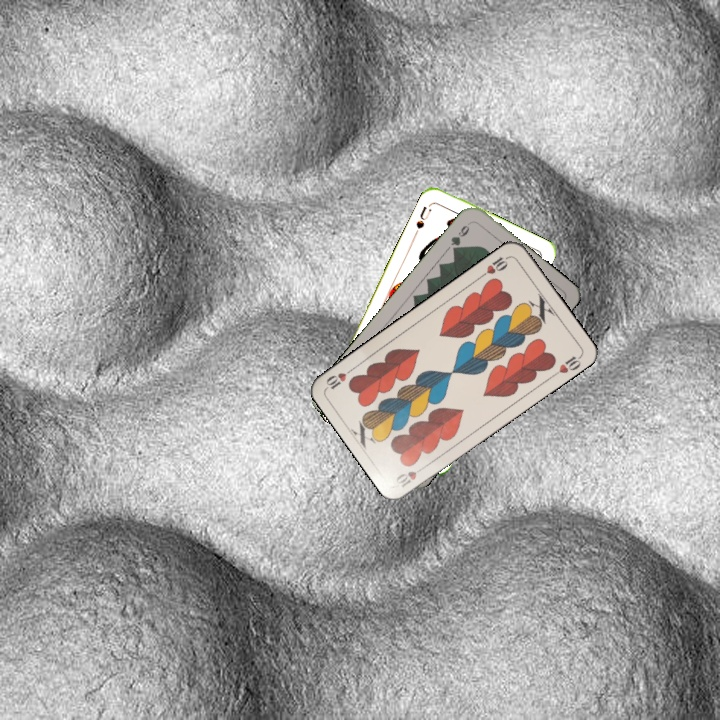G9: (447, 218, 474, 255)
H10: (392, 461, 429, 490), (476, 252, 512, 280)
SU: (412, 202, 434, 232)
